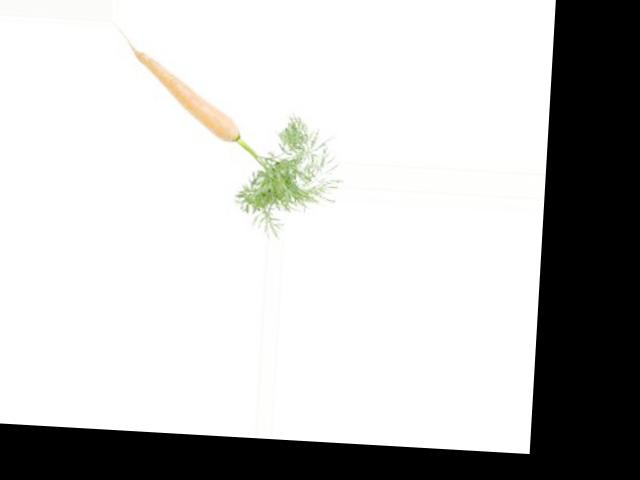carrot: (119, 40, 245, 146)
